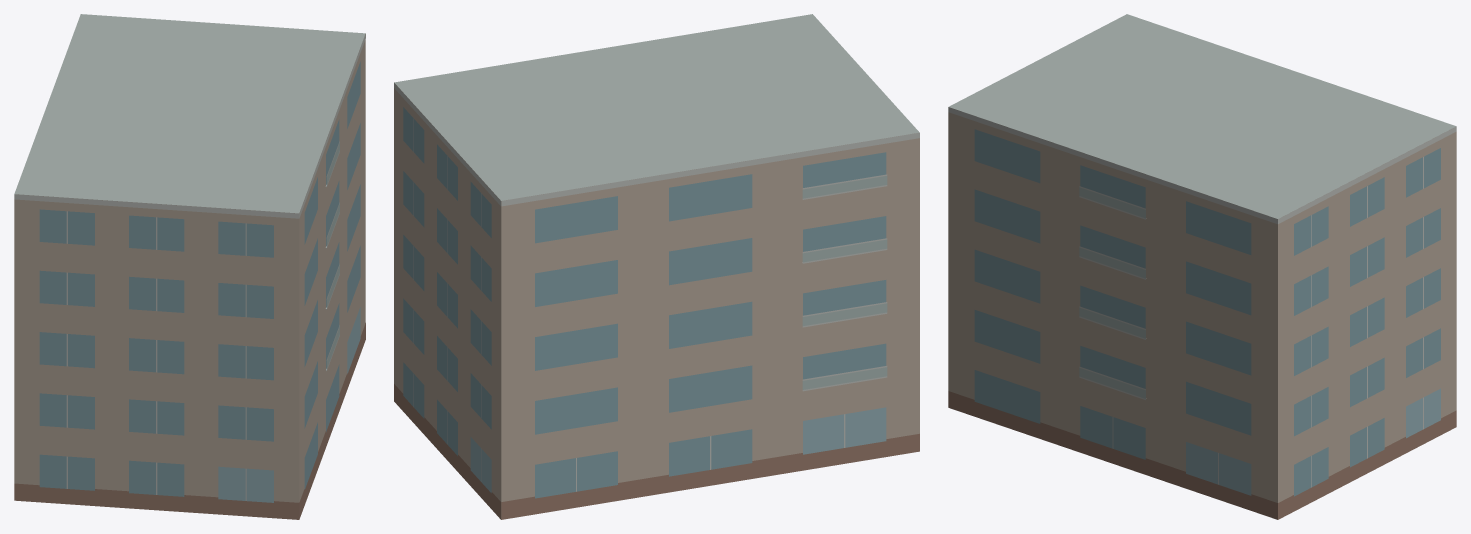
File: survey-upis-32929479.glb
The picture shows the model from 3 angles, left to right: view 1: azimuth 30°, elevation 25°; view 2: azimuth 150°, elevation 25°; view 3: azimuth 270°, elevation 25°; orthographic projection. The views are drawn at different scales.
Parts seen in each view (by area): view 1: survey-upis-32929479.tmp; view 2: survey-upis-32929479.tmp; view 3: survey-upis-32929479.tmp.
Part boxes in pixels (bbox=[...]): survey-upis-32929479.tmp: bbox=[14, 14, 365, 519]; survey-upis-32929479.tmp: bbox=[394, 14, 919, 519]; survey-upis-32929479.tmp: bbox=[948, 14, 1456, 519].
Size of the model in its own units: 20.56 by 14.05 by 21.52.
